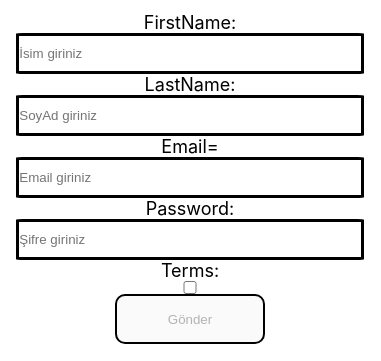
Test: Form Tests › Bilgiler doğru gelince button aktif mi?
The width and height of the screenshot is (381, 361).
Type "Ihsan" into the field labelled "FirstName:" at (190, 54), box [16,33,364,74]
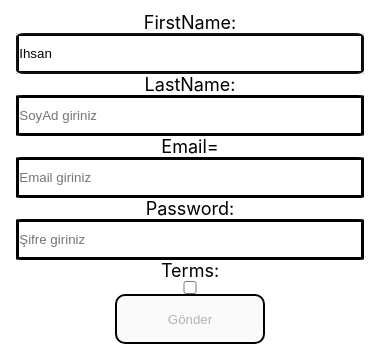
Type "Dogan" into the field labelled "LastName:" at (190, 116), box [16,95,364,136]
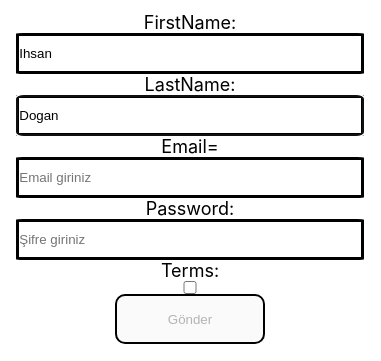
Type "ihsn_dgn@example.com" into the field labelled "Email=" at (190, 178), box [16,157,364,198]
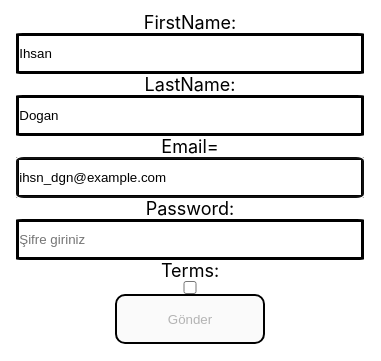
Type "1997" into the field labelled "Password:" at (190, 240), box [16,219,364,260]
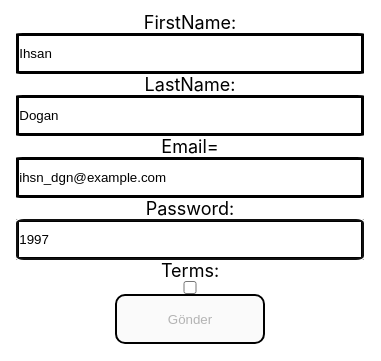
Click the checkbox labelled "Terms:" at (190, 288), box [19,281,361,294]
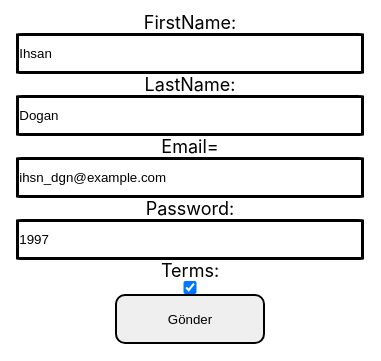
expect the button with test id "button" is enabled: met, box [115,294,265,344]
